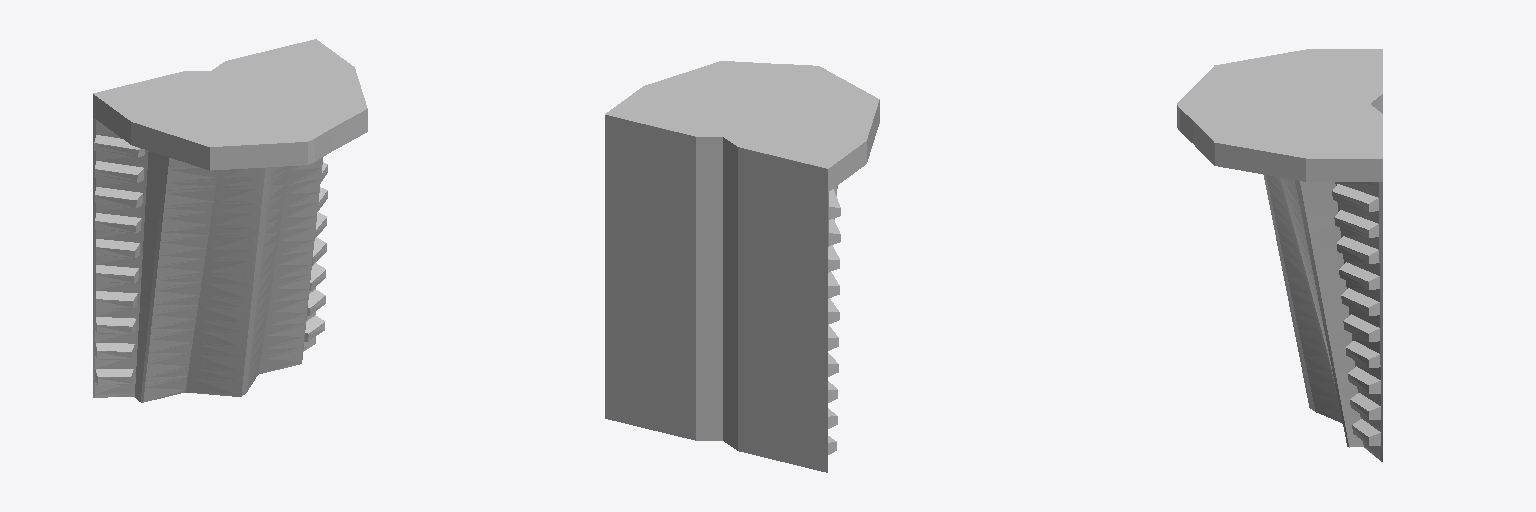
Rendered from 868227_componente n 139435.obj.
The picture shows the model from 3 angles: view 1: azimuth 30°, elevation 25°; view 2: azimuth 150°, elevation 25°; view 3: azimuth 270°, elevation 25°; orthographic projection.
Parts seen in each view (by area): view 1: Cylinder001; view 2: Cylinder001; view 3: Cylinder001.
Part boxes in pixels (x1,y1,x2,y2): Cylinder001: (93, 39, 367, 402); Cylinder001: (605, 61, 879, 472); Cylinder001: (1177, 49, 1382, 461).
Bounding box in the file's own units: 1.05 × 1.3 × 0.8.